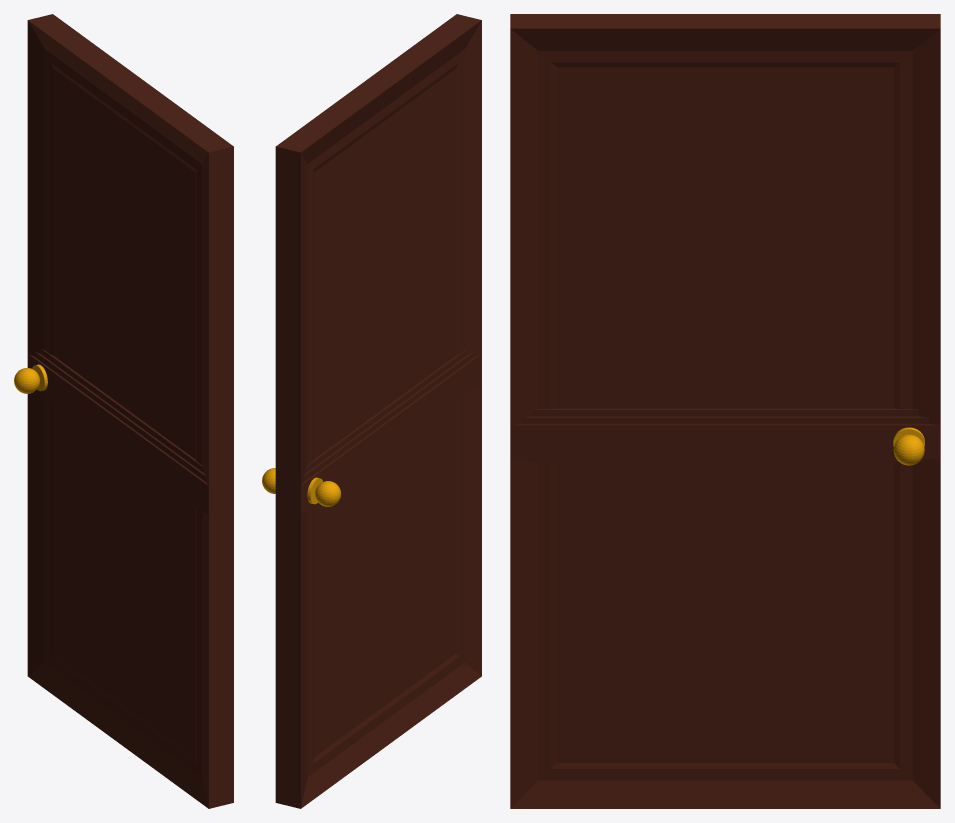
Rendered from puerta.fbx.
The picture shows the model from 3 angles, left to right: view 1: azimuth 30°, elevation 25°; view 2: azimuth 150°, elevation 25°; view 3: azimuth 270°, elevation 25°; orthographic projection. The views are drawn at different scales.
Visible parts, largest first — view 1: Cube, Cylinder; view 2: Cube, Cylinder; view 3: Cube, Cylinder.
Boxes of the visible parts, x1,y1,x2,y2 form: Cube: [27, 14, 233, 808]; Cylinder: [14, 364, 47, 393]; Cube: [275, 14, 481, 808]; Cylinder: [262, 468, 340, 506]; Cube: [510, 14, 940, 808]; Cylinder: [893, 427, 924, 465].
Size of the model in its own units: 24.2 by 201 by 100.
